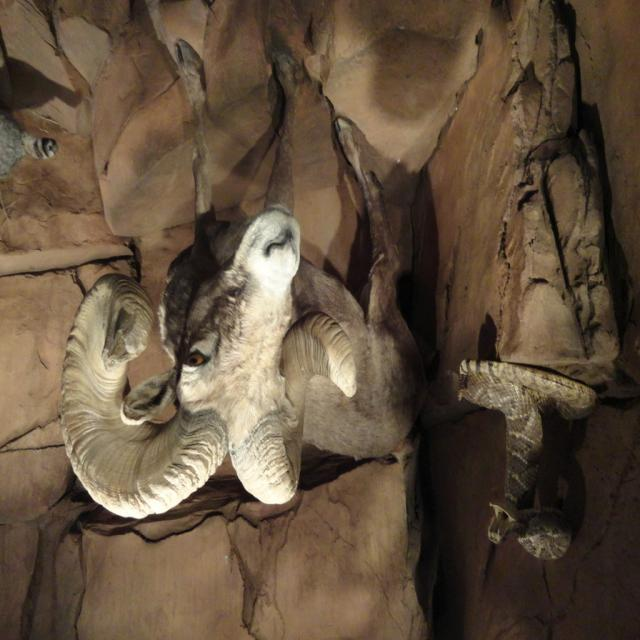Goat: (59, 39, 428, 523), (456, 358, 597, 564)
